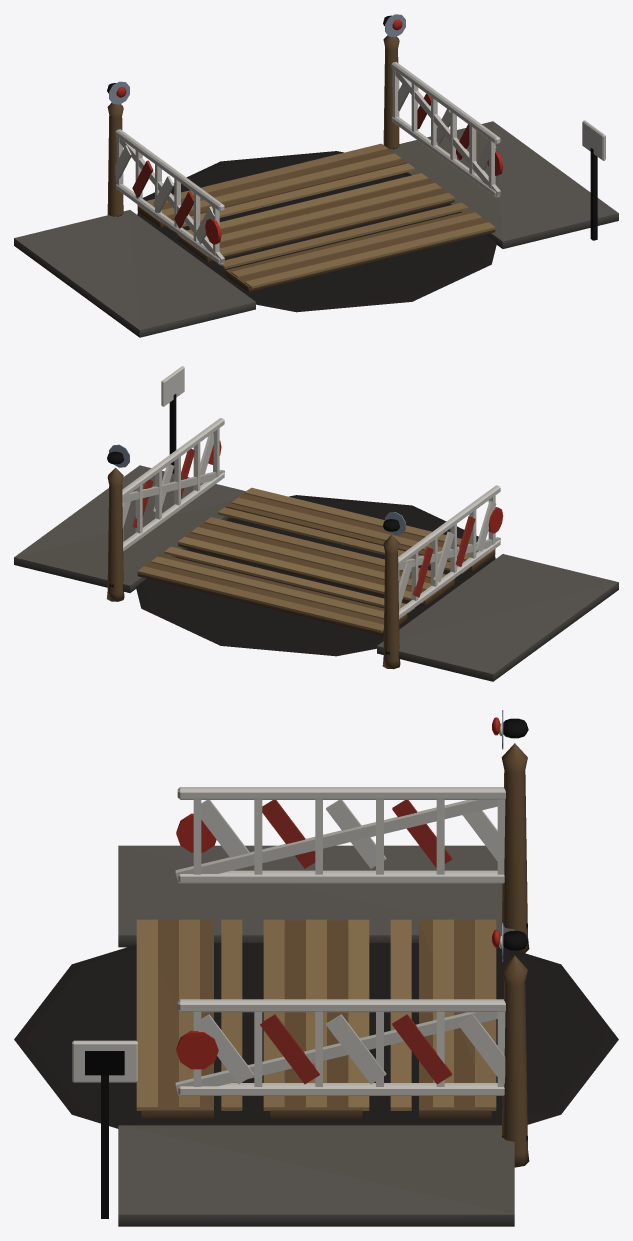
Rendered from level-crossing.glb.
3 views of the same model, one above another, from view 1: azimuth 30°, elevation 25°; view 2: azimuth 150°, elevation 25°; view 3: azimuth 270°, elevation 25° (orthographic). The views are drawn at different scales.
Parts seen in each view (by area): view 1: level_crossing; view 2: level_crossing; view 3: level_crossing.
Part boxes in pixels (x1,y1,x2,y2): level_crossing: (14, 14, 618, 337); level_crossing: (14, 366, 618, 681); level_crossing: (14, 710, 618, 1226).
Bounding box in the file's own units: 6.6 × 1.98 × 4.58.
